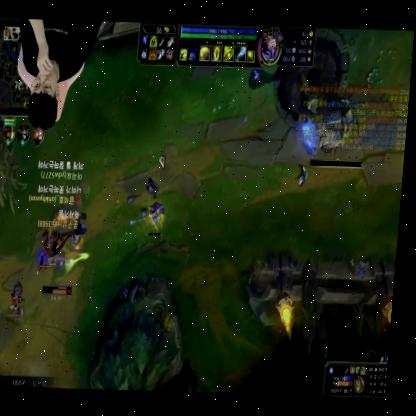streamer: (12, 16, 102, 129)
